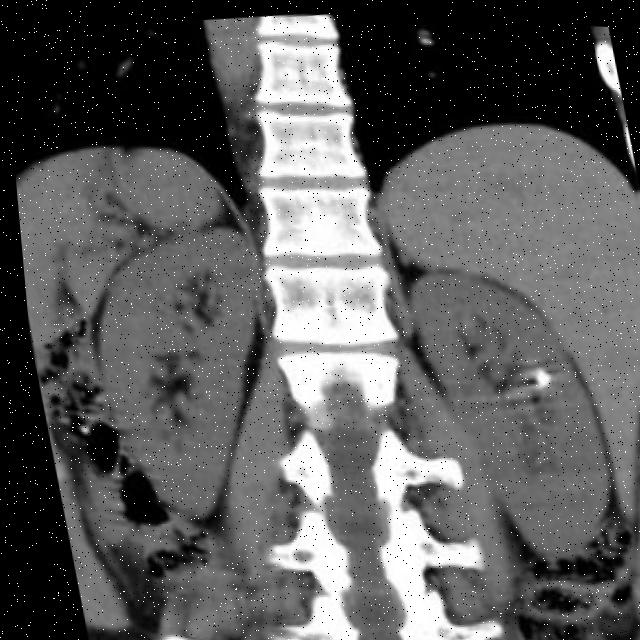Tas_Var: (523, 356, 549, 387)
